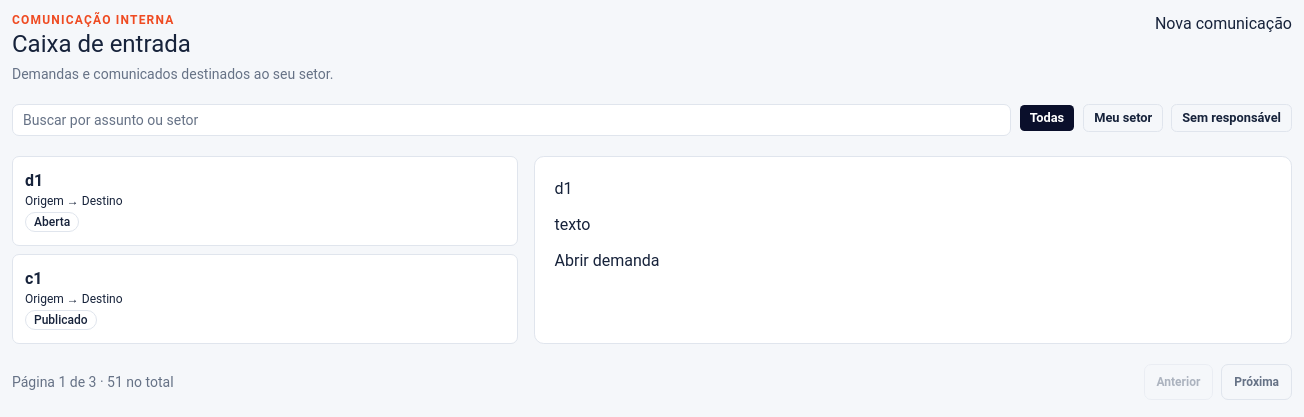
Scenario: InboxPage › seleciona inline e abre comunicado pela rota correta
This screenshot has width=1304, height=417.
Click the button "c1 Origem → Destino Publicado" at [44, 299], box [12, 254, 518, 344]
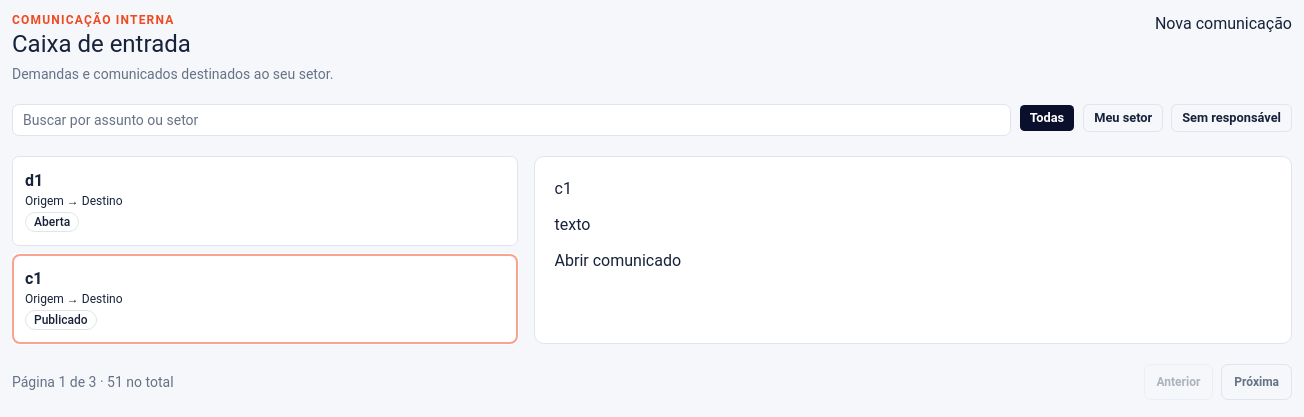
Expected: the heading "c1" is shown, [555, 179, 572, 198]
